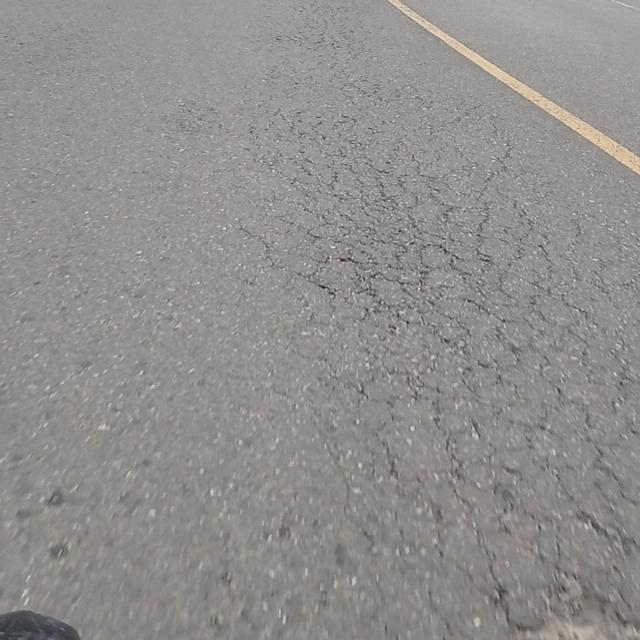Retak Buaya: (265, 87, 626, 640)
